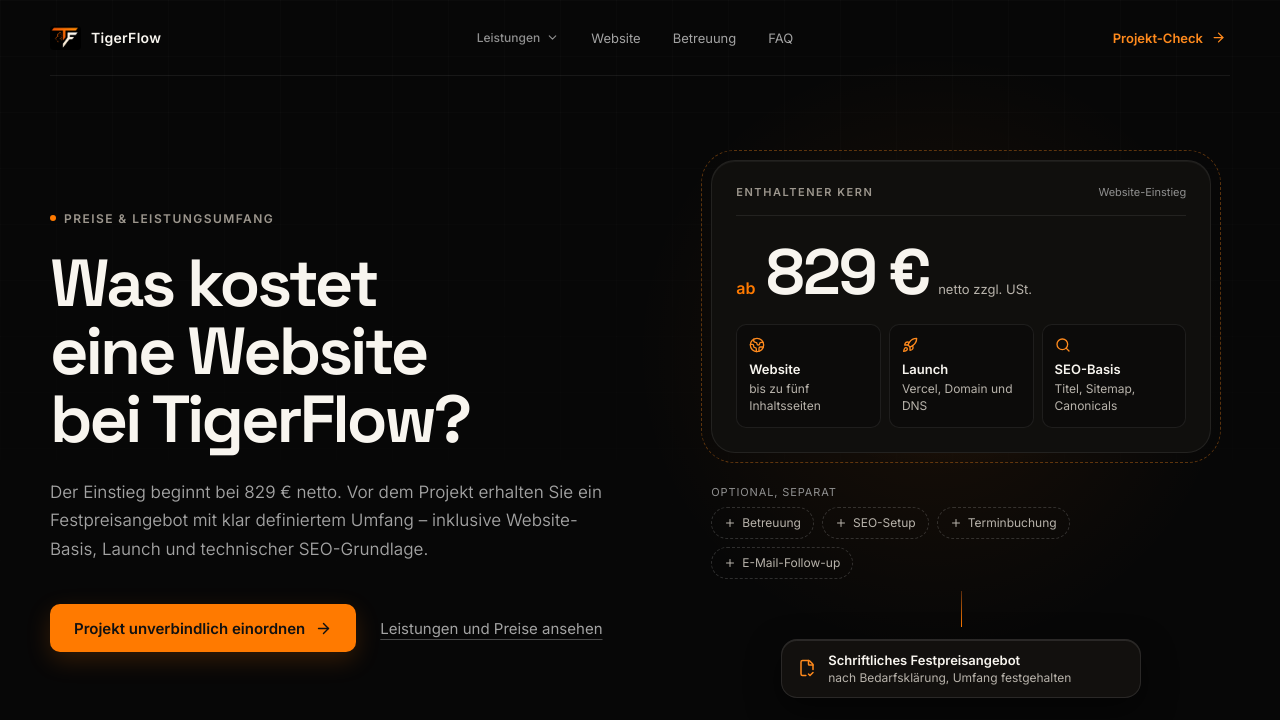
/preise primary CTAs use the existing project check › does not send any network request by merely opening the project check
Click the button "Projekt-Check" at x=1169, y=38, box [1109,16,1230,60]
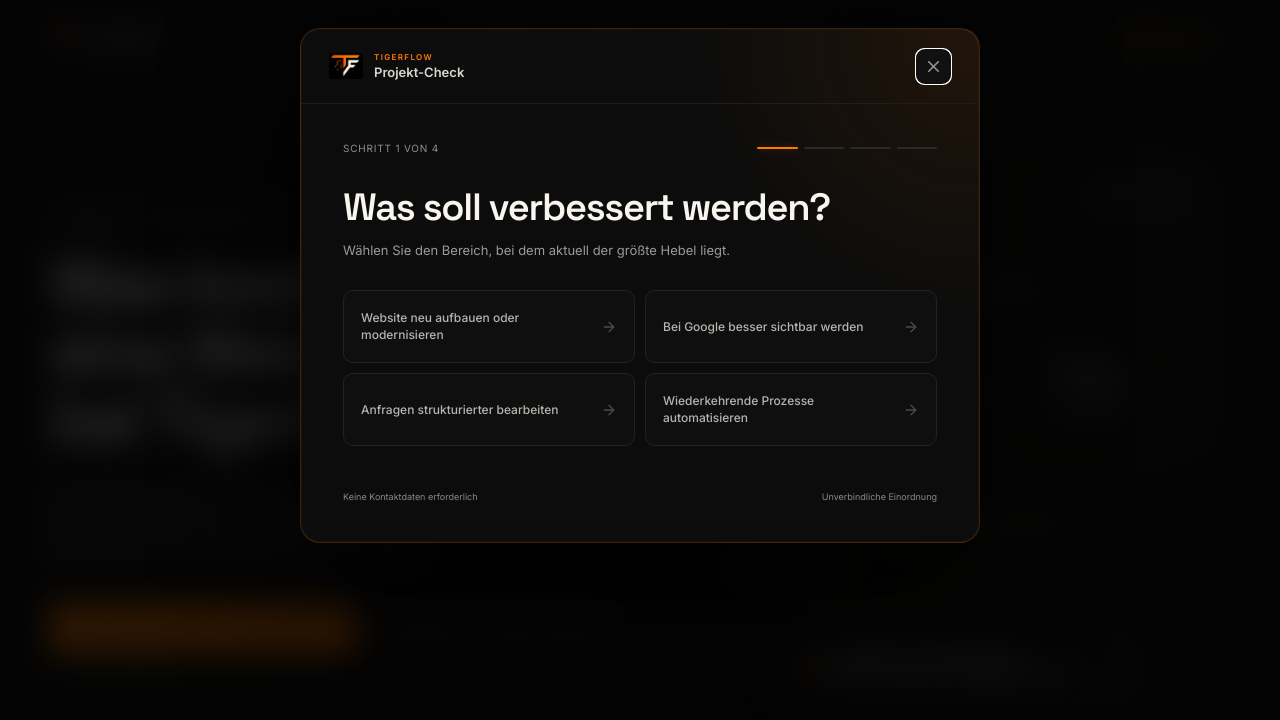
Now the dialog is shown, box [300,28,980,544]
